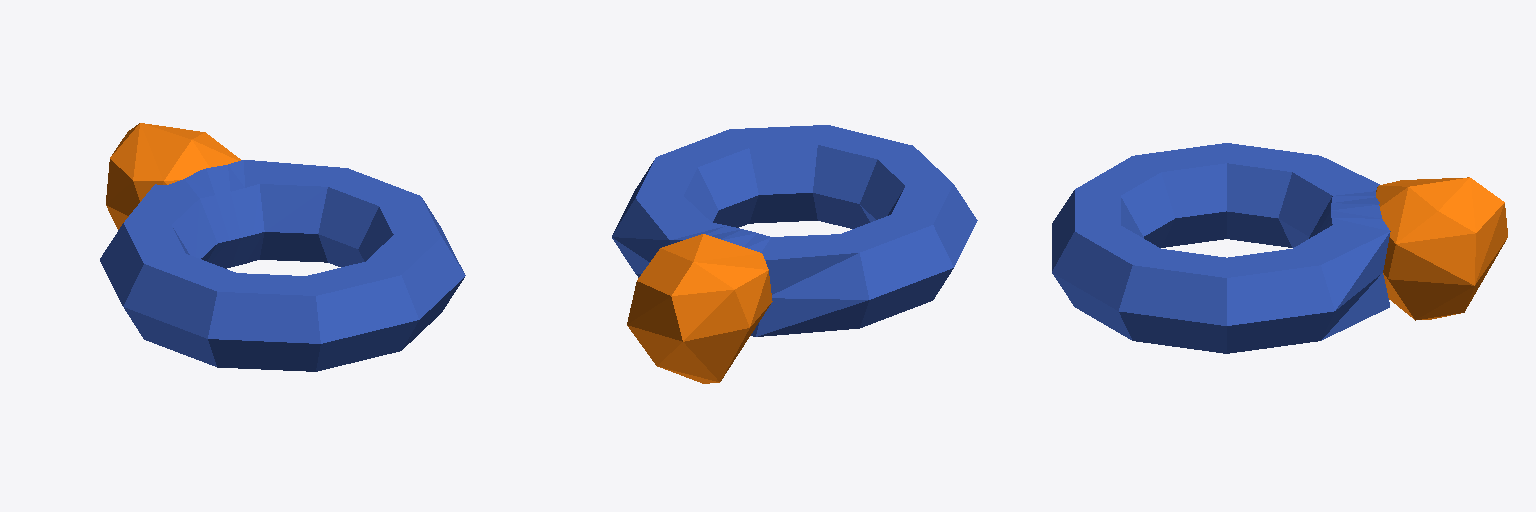
Rendered from GroundItem.obj.
3 views of the same model, side by side, from view 1: azimuth 30°, elevation 25°; view 2: azimuth 150°, elevation 25°; view 3: azimuth 270°, elevation 25° (orthographic).
Parts seen in each view (by area): view 1: TopazRingBand; view 2: TopazRingBand; view 3: TopazRingBand.
Boxes of the visible parts, <box> form: TopazRingBand: <box>100,123,465,371</box>; TopazRingBand: <box>612,125,977,383</box>; TopazRingBand: <box>1052,143,1507,353</box>.
Bounding box in the file's own units: 0.1318 × 0.0547 × 0.1634.